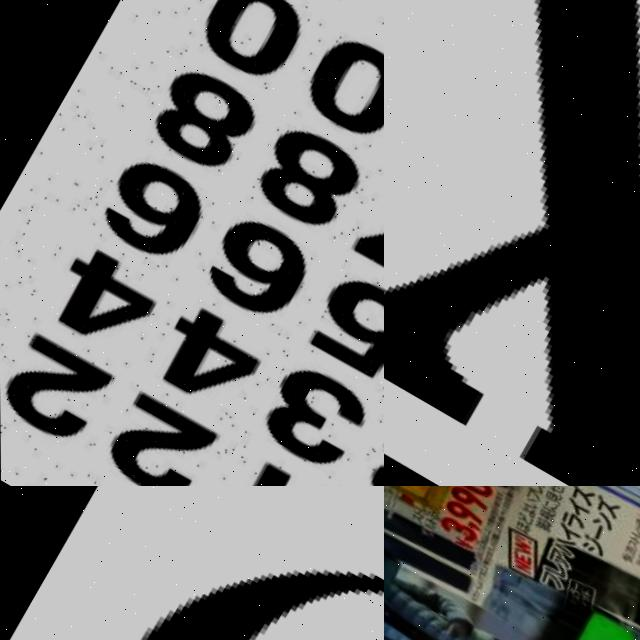0: (291, 25, 384, 155), (188, 0, 317, 91)
1: (215, 456, 318, 486)
2: (0, 321, 119, 453), (87, 381, 228, 486)
3: (252, 355, 373, 474)
4: (39, 237, 172, 364), (141, 296, 272, 423)
5: (298, 261, 384, 392)
6: (86, 144, 220, 277), (188, 202, 323, 333)
7: (345, 171, 384, 302)
8: (243, 113, 372, 241), (139, 57, 267, 185)
B: (141, 567, 384, 640)
X: (384, 0, 640, 486)
Y: (439, 559, 640, 640)
